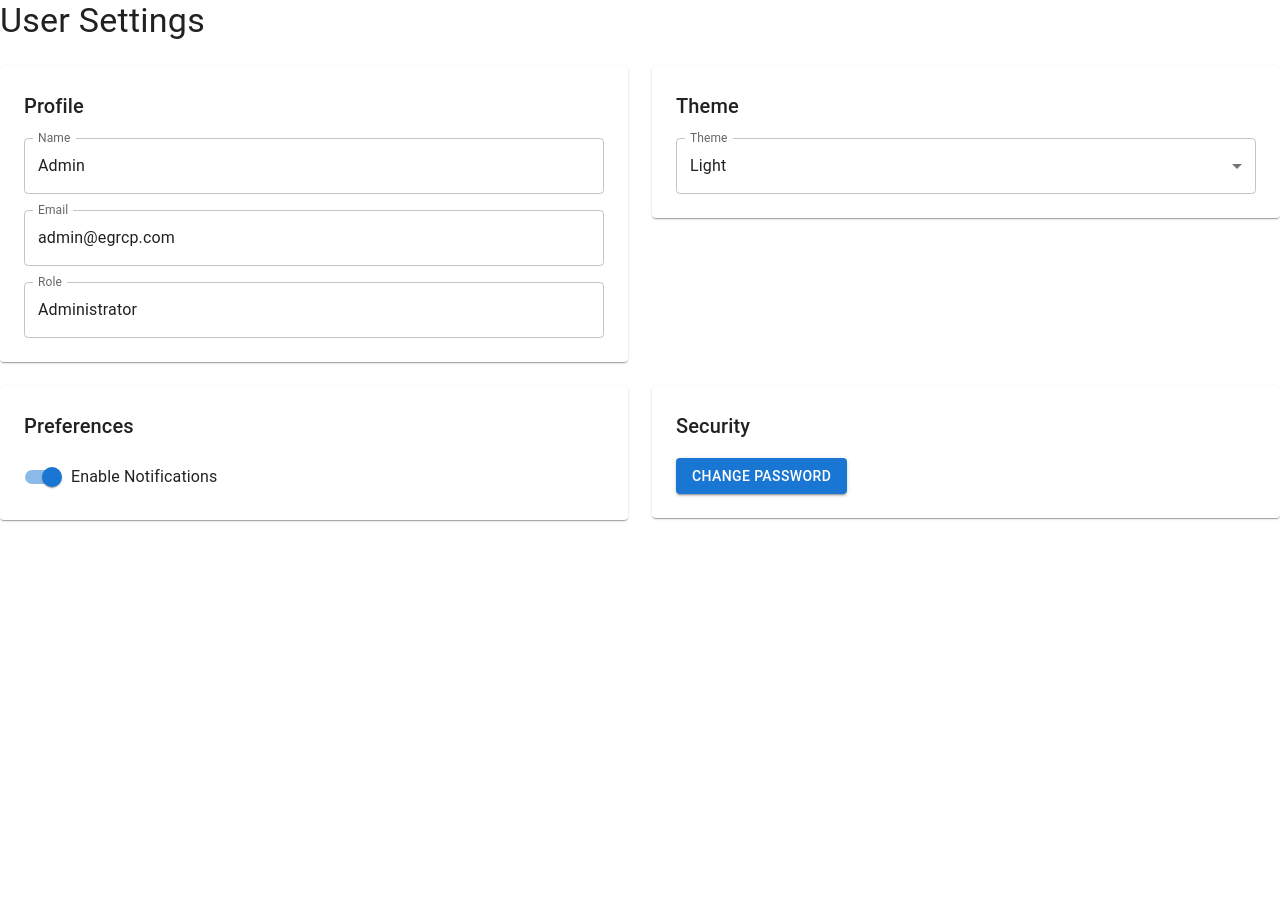
Settings Advanced › shows password length validation
Click the button "Change Password". click: (762, 476)
box: [676,458,847,494]
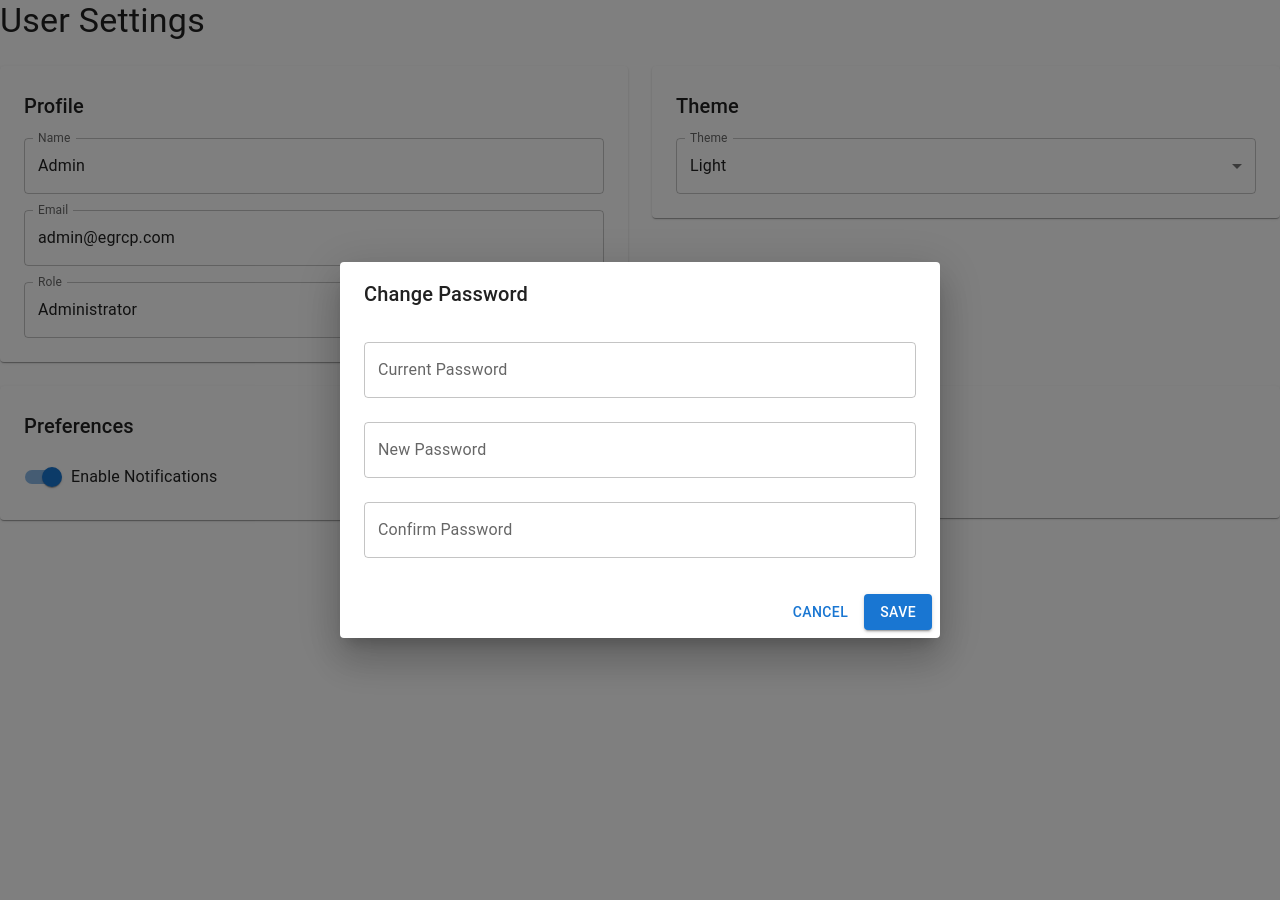
Type "123" into the password field labelled "New Password". click: (640, 450)
box: [364,422,916,478]
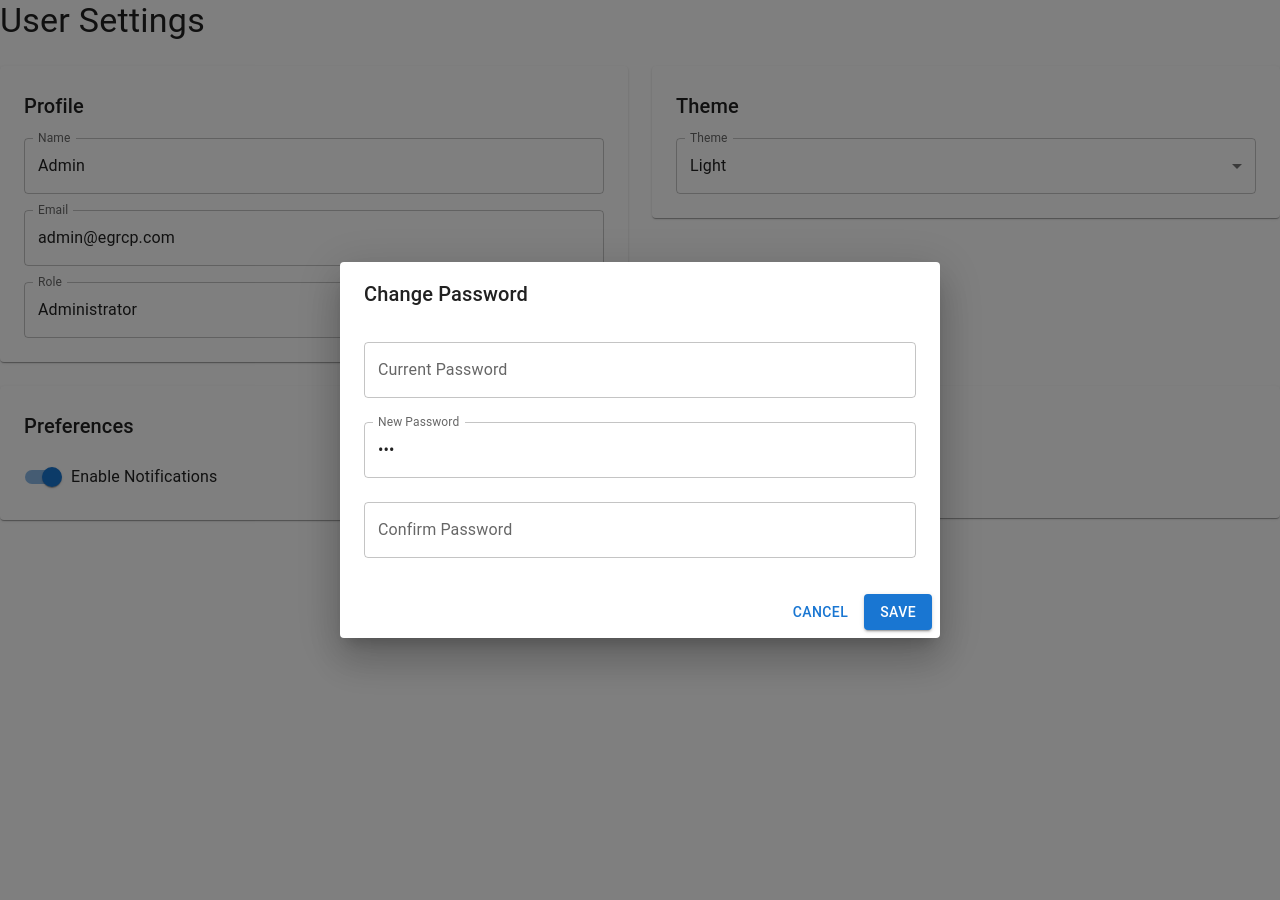
Type "123" into the password field labelled "Confirm Password". click: (640, 530)
box: [364,502,916,558]
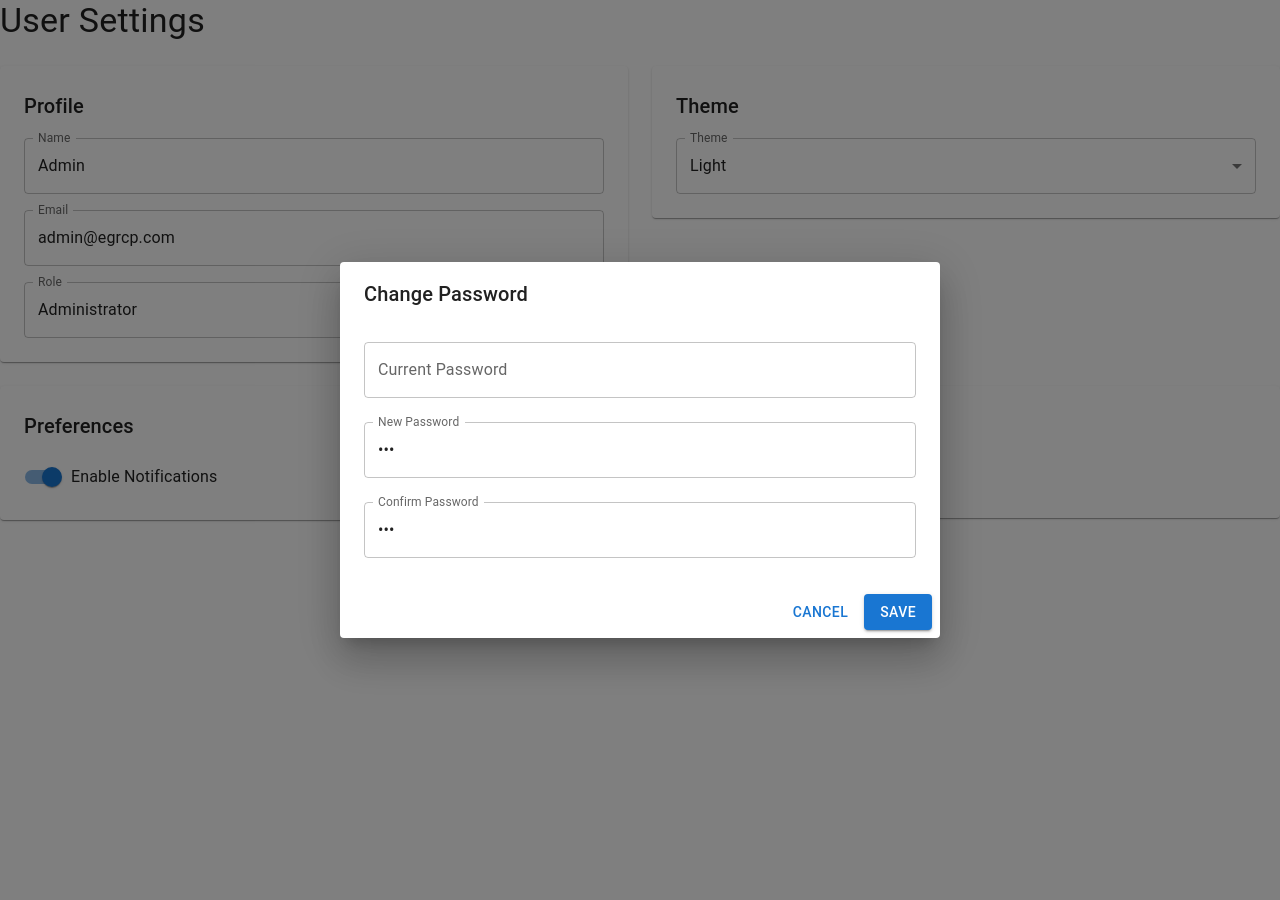
Click the button "Save". click: (898, 612)
box: [864,594,932,630]
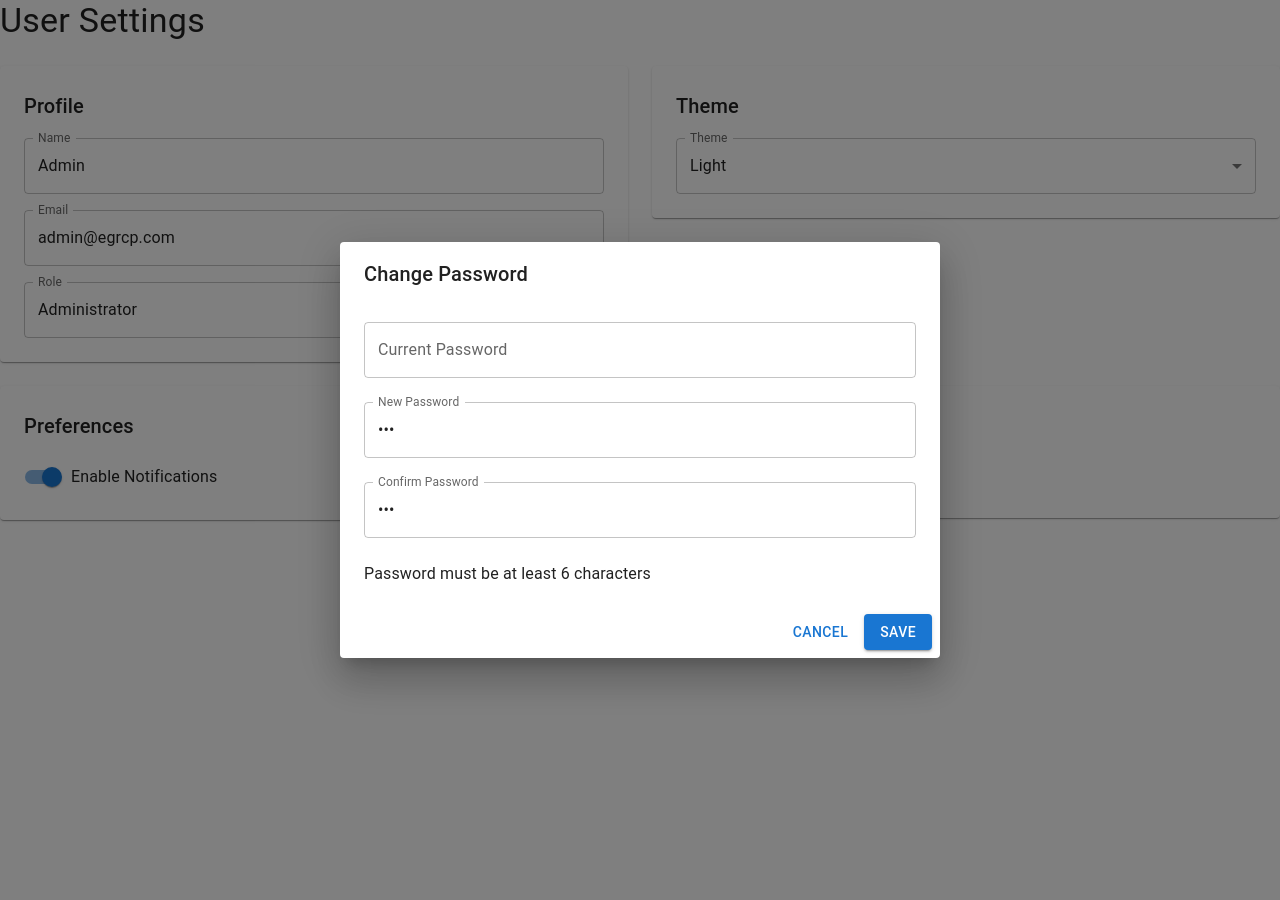
Check: the text "Password must be at least 6 characters" is shown, box [364,564,651,583]
